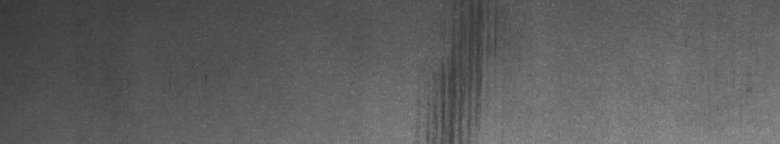ka: (424, 10, 497, 136)
